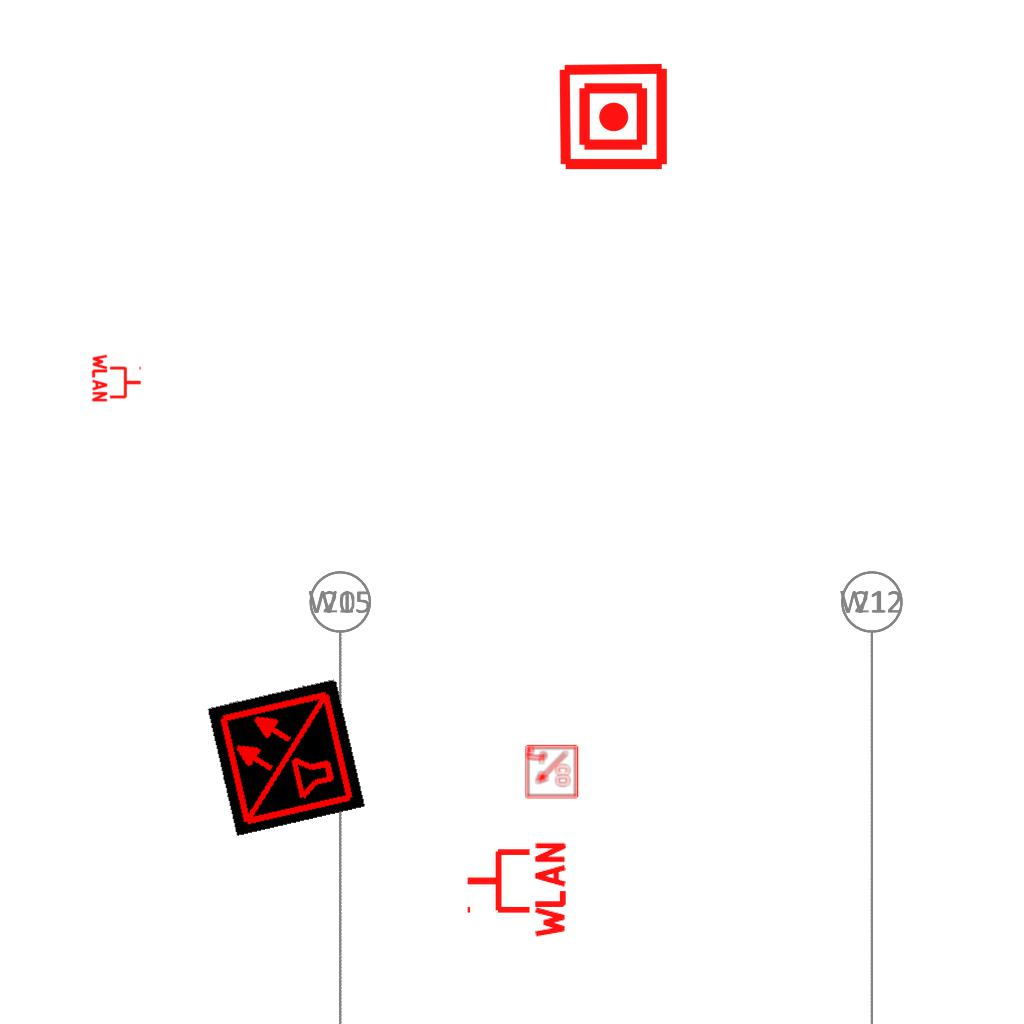NAM-Nichtautomatischer_Melder: (557, 60, 670, 173)
OKW_Multisensormelder_(Kombination_optischer_Rauch-Kahlenmonoxid_Waerme-Melder): (206, 677, 366, 837)
ROA_Rauchmelder_optisch_mit_Signalgeber_(Sockelsirene): (523, 744, 579, 800)
WLAN: (463, 838, 568, 942), (91, 352, 143, 404)
